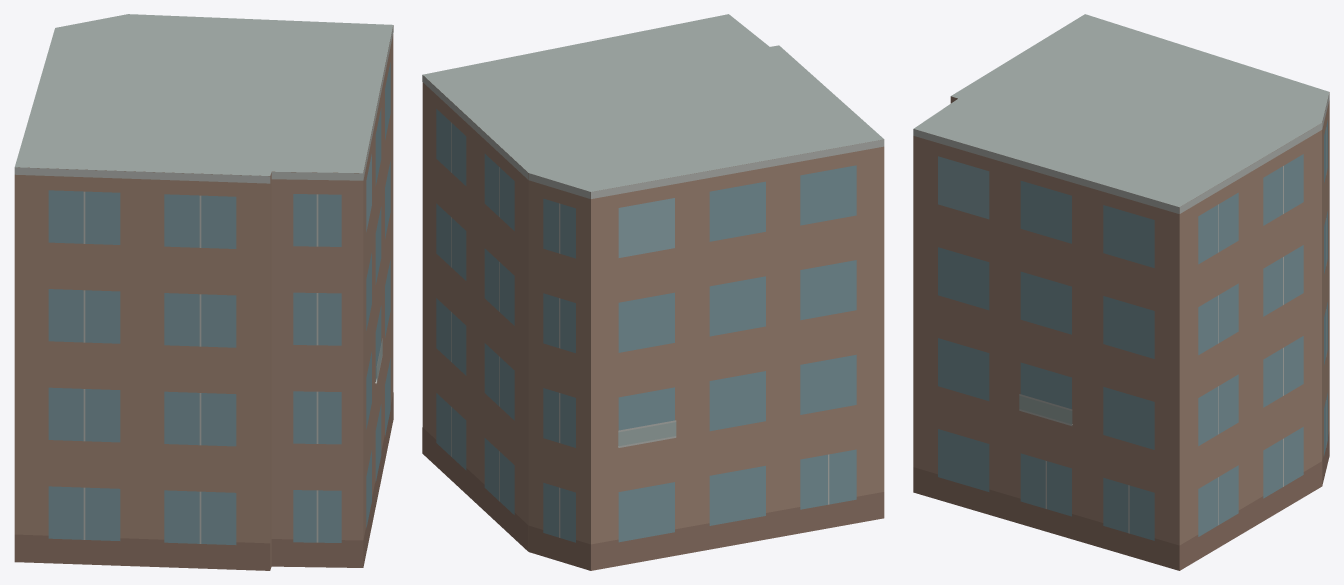
File: survey-upis-32670176.glb
The picture shows the model from 3 angles, left to right: view 1: azimuth 30°, elevation 25°; view 2: azimuth 150°, elevation 25°; view 3: azimuth 270°, elevation 25°; orthographic projection. The views are drawn at different scales.
Parts seen in each view (by area): view 1: survey-upis-32670176.tmp; view 2: survey-upis-32670176.tmp; view 3: survey-upis-32670176.tmp.
Part boxes in pixels (left/top/right/bottom): survey-upis-32670176.tmp: left=14, top=14, right=393, bottom=570; survey-upis-32670176.tmp: left=422, top=14, right=884, bottom=570; survey-upis-32670176.tmp: left=913, top=14, right=1329, bottom=570.
Size of the model in its own units: 14.6 by 12.8 by 13.29.
